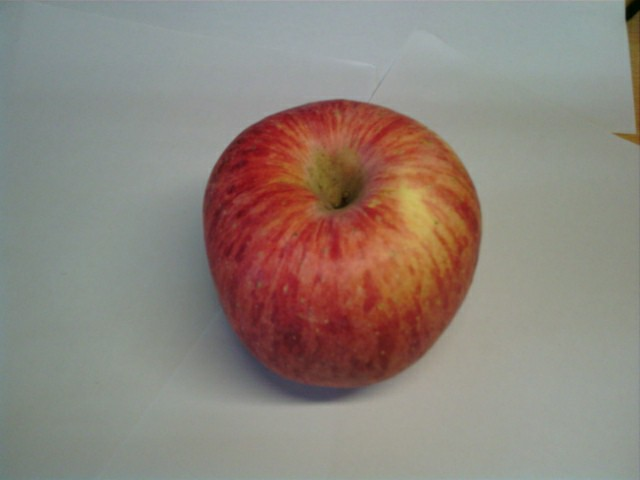normal_apple: (204, 100, 481, 390)
